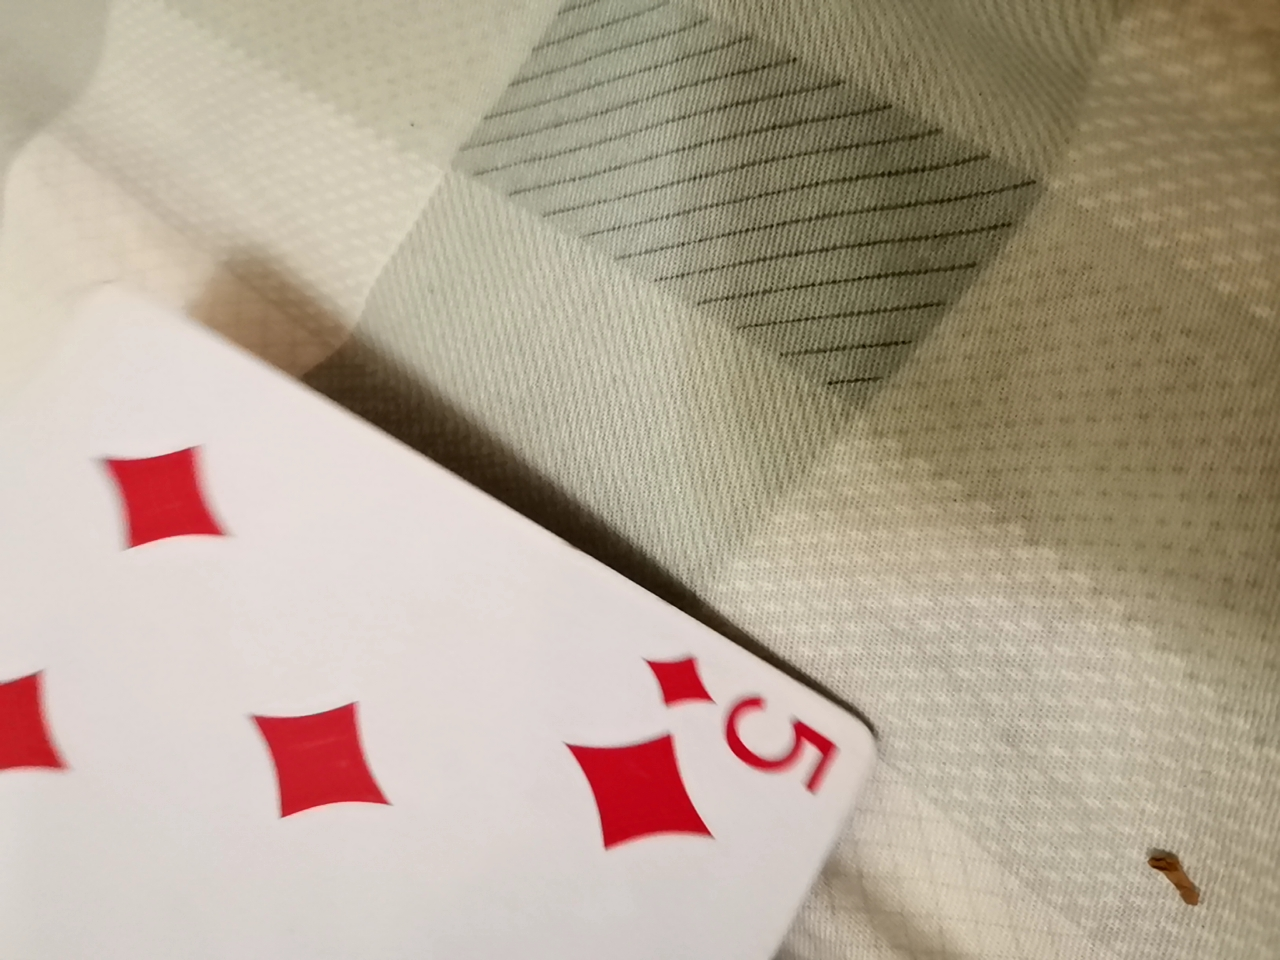fk 5: (5, 268, 900, 954)
